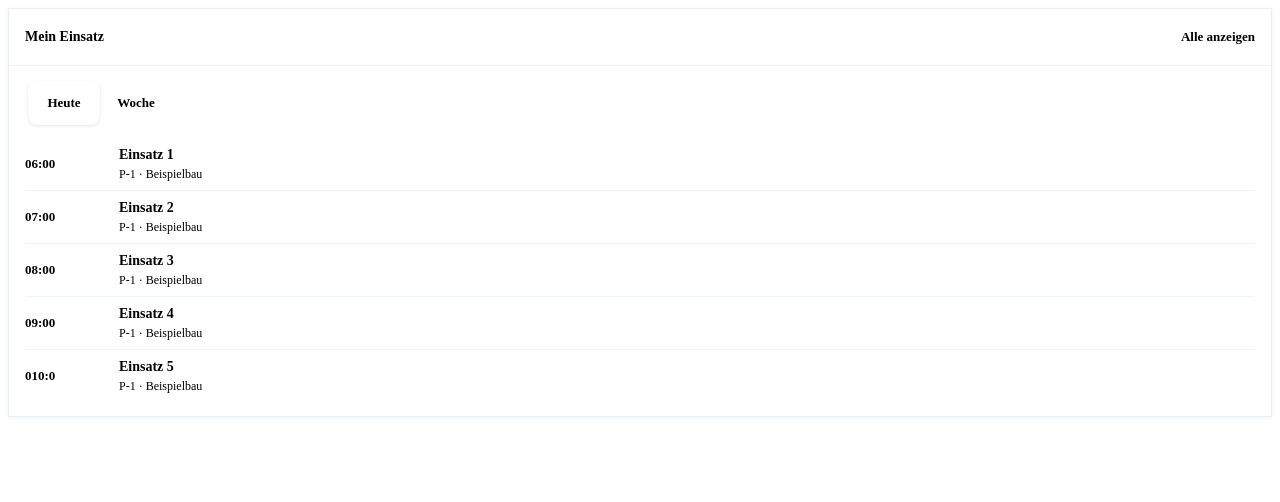
Test: PlanningTodayWidget › medium starts on „Heute“ with 5 rows and switches to the week
This screenshot has width=1280, height=502.
Step 1. Click the button "Woche" → [136, 103], box [100,81,172,125]
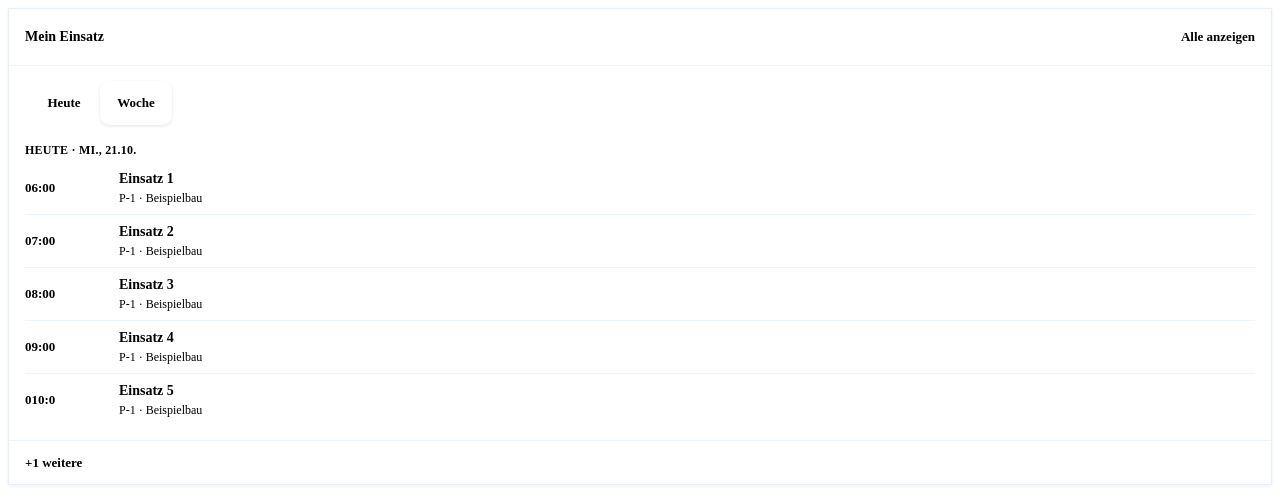
Now the button "+1 weitere" is shown, box [9,440,1271,484]
